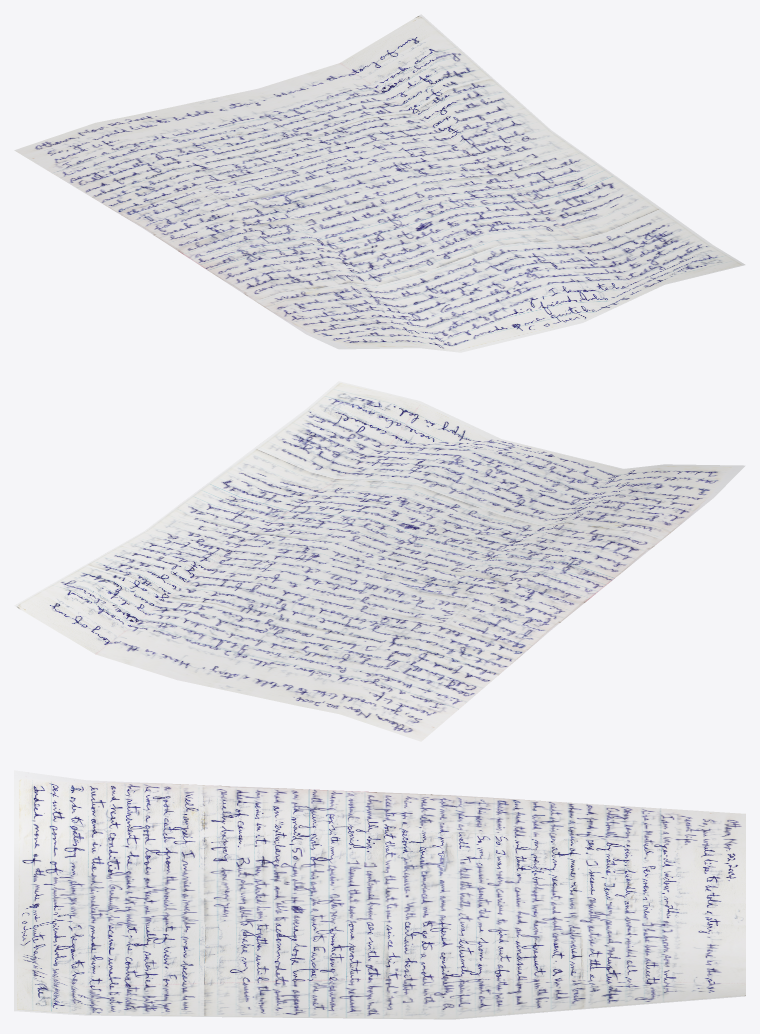
The model's file is paper2.fbx.
3 views of the same model, one above another, from view 1: azimuth 30°, elevation 25°; view 2: azimuth 150°, elevation 25°; view 3: azimuth 270°, elevation 25° (orthographic). The views are drawn at different scales.
Parts seen in each view (by area): view 1: pPlane2; view 2: pPlane2; view 3: pPlane2.
Part boxes in pixels (box(x1,y1,x2,y2)): pPlane2: box(14, 14, 745, 352); pPlane2: box(14, 381, 745, 741); pPlane2: box(14, 770, 745, 1019).
Size of the model in its own units: 23.68 by 2.15 by 32.7.
Materials: 1 (1 with a texture image).
